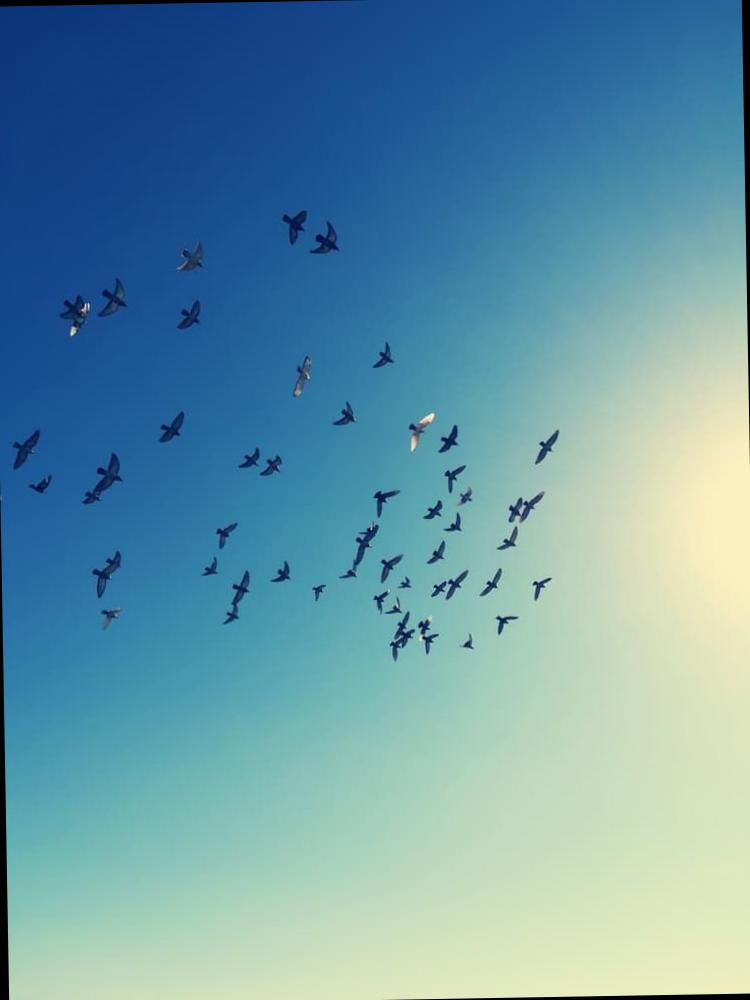bird: (278, 343, 324, 403), (169, 234, 220, 280), (166, 296, 215, 338), (363, 334, 405, 372), (92, 600, 132, 631)
